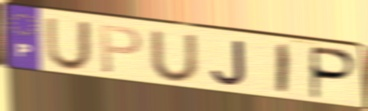I: (275, 42, 293, 97)
J: (209, 39, 248, 89)
P: (308, 44, 359, 102), (98, 23, 144, 76)
U: (148, 29, 202, 85), (44, 16, 93, 73)
